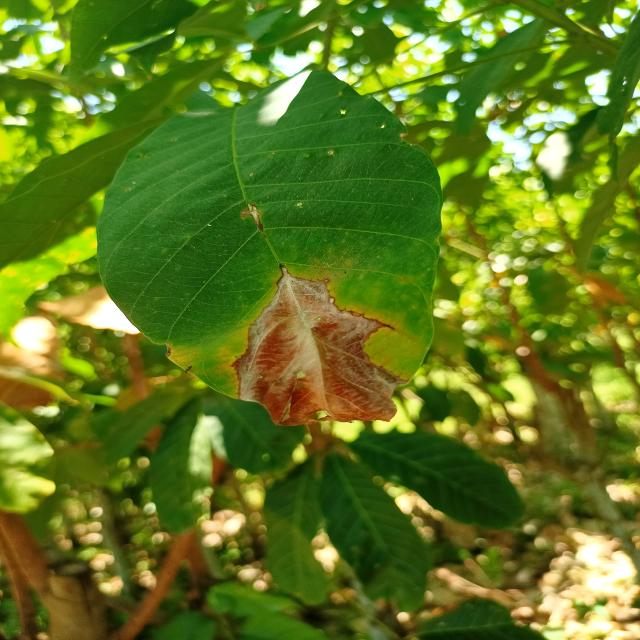Leaf-Blight: (233, 267, 407, 426)
